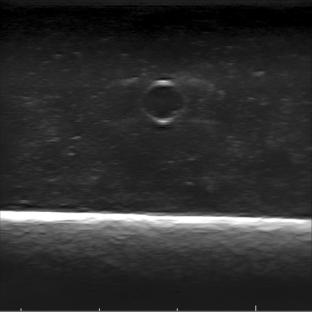vessel: (139, 79, 186, 125)
